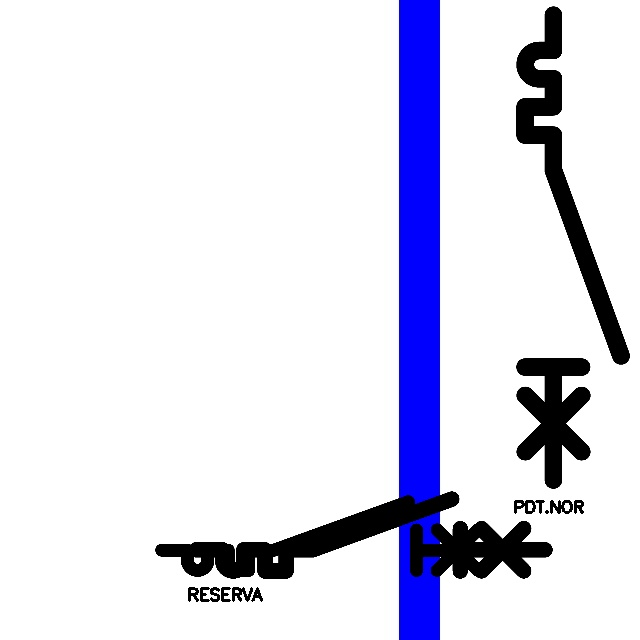interruptor_termomagnetico: (513, 3, 632, 492), (187, 490, 553, 580), (153, 493, 507, 579)
